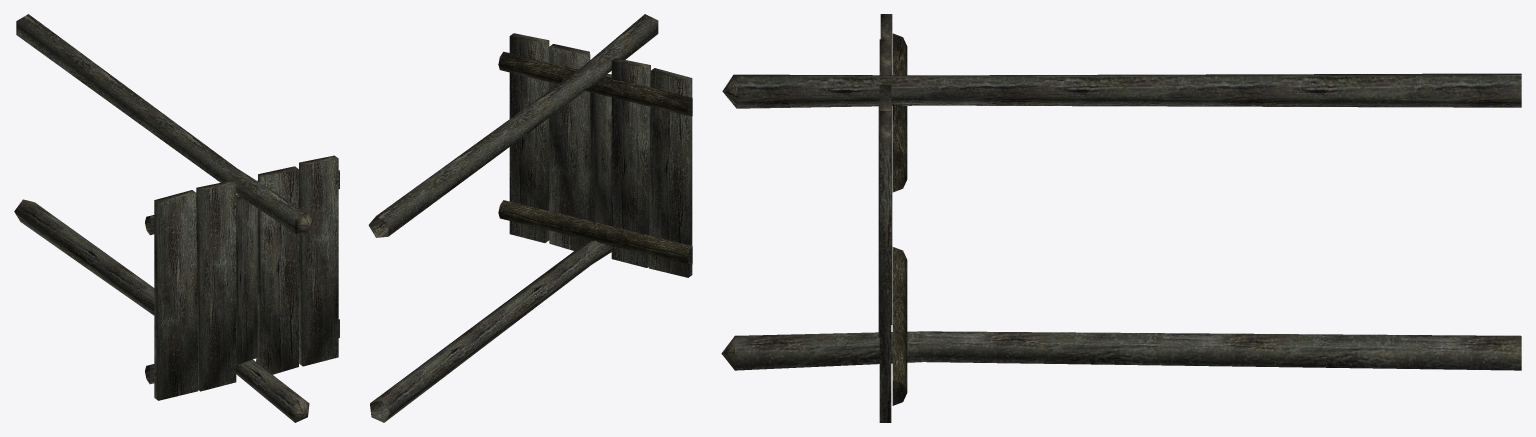
Rendered from ex_common_plat_cent.obj.
The picture shows the model from 3 angles, left to right: view 1: azimuth 30°, elevation 25°; view 2: azimuth 150°, elevation 25°; view 3: azimuth 270°, elevation 25°; orthographic projection. The views are drawn at different scales.
Visible parts, largest first — view 1: Tri Ex_common_plat_Cent 3, Tri Ex_common_plat_Cent 4, Tri Ex_common_plat_Cent 2; view 2: Tri Ex_common_plat_Cent 3, Tri Ex_common_plat_Cent 1, Tri Ex_common_plat_Cent 4; view 3: Tri Ex_common_plat_Cent 3, Tri Ex_common_plat_Cent 1, Tri Ex_common_plat_Cent 4.
Boxes of the visible parts, <box> form: Tri Ex_common_plat_Cent 3: <box>14,14,338,422</box>; Tri Ex_common_plat_Cent 4: <box>154,155,338,202</box>; Tri Ex_common_plat_Cent 2: <box>289,212,313,422</box>; Tri Ex_common_plat_Cent 3: <box>368,14,692,422</box>; Tri Ex_common_plat_Cent 1: <box>498,51,692,264</box>; Tri Ex_common_plat_Cent 4: <box>510,33,691,80</box>; Tri Ex_common_plat_Cent 3: <box>734,39,1521,422</box>; Tri Ex_common_plat_Cent 1: <box>892,33,907,405</box>; Tri Ex_common_plat_Cent 4: <box>878,14,892,138</box>.
Bounding box in the file's own units: 256 × 267 × 653.
Materials: 5 (5 with a texture image).
